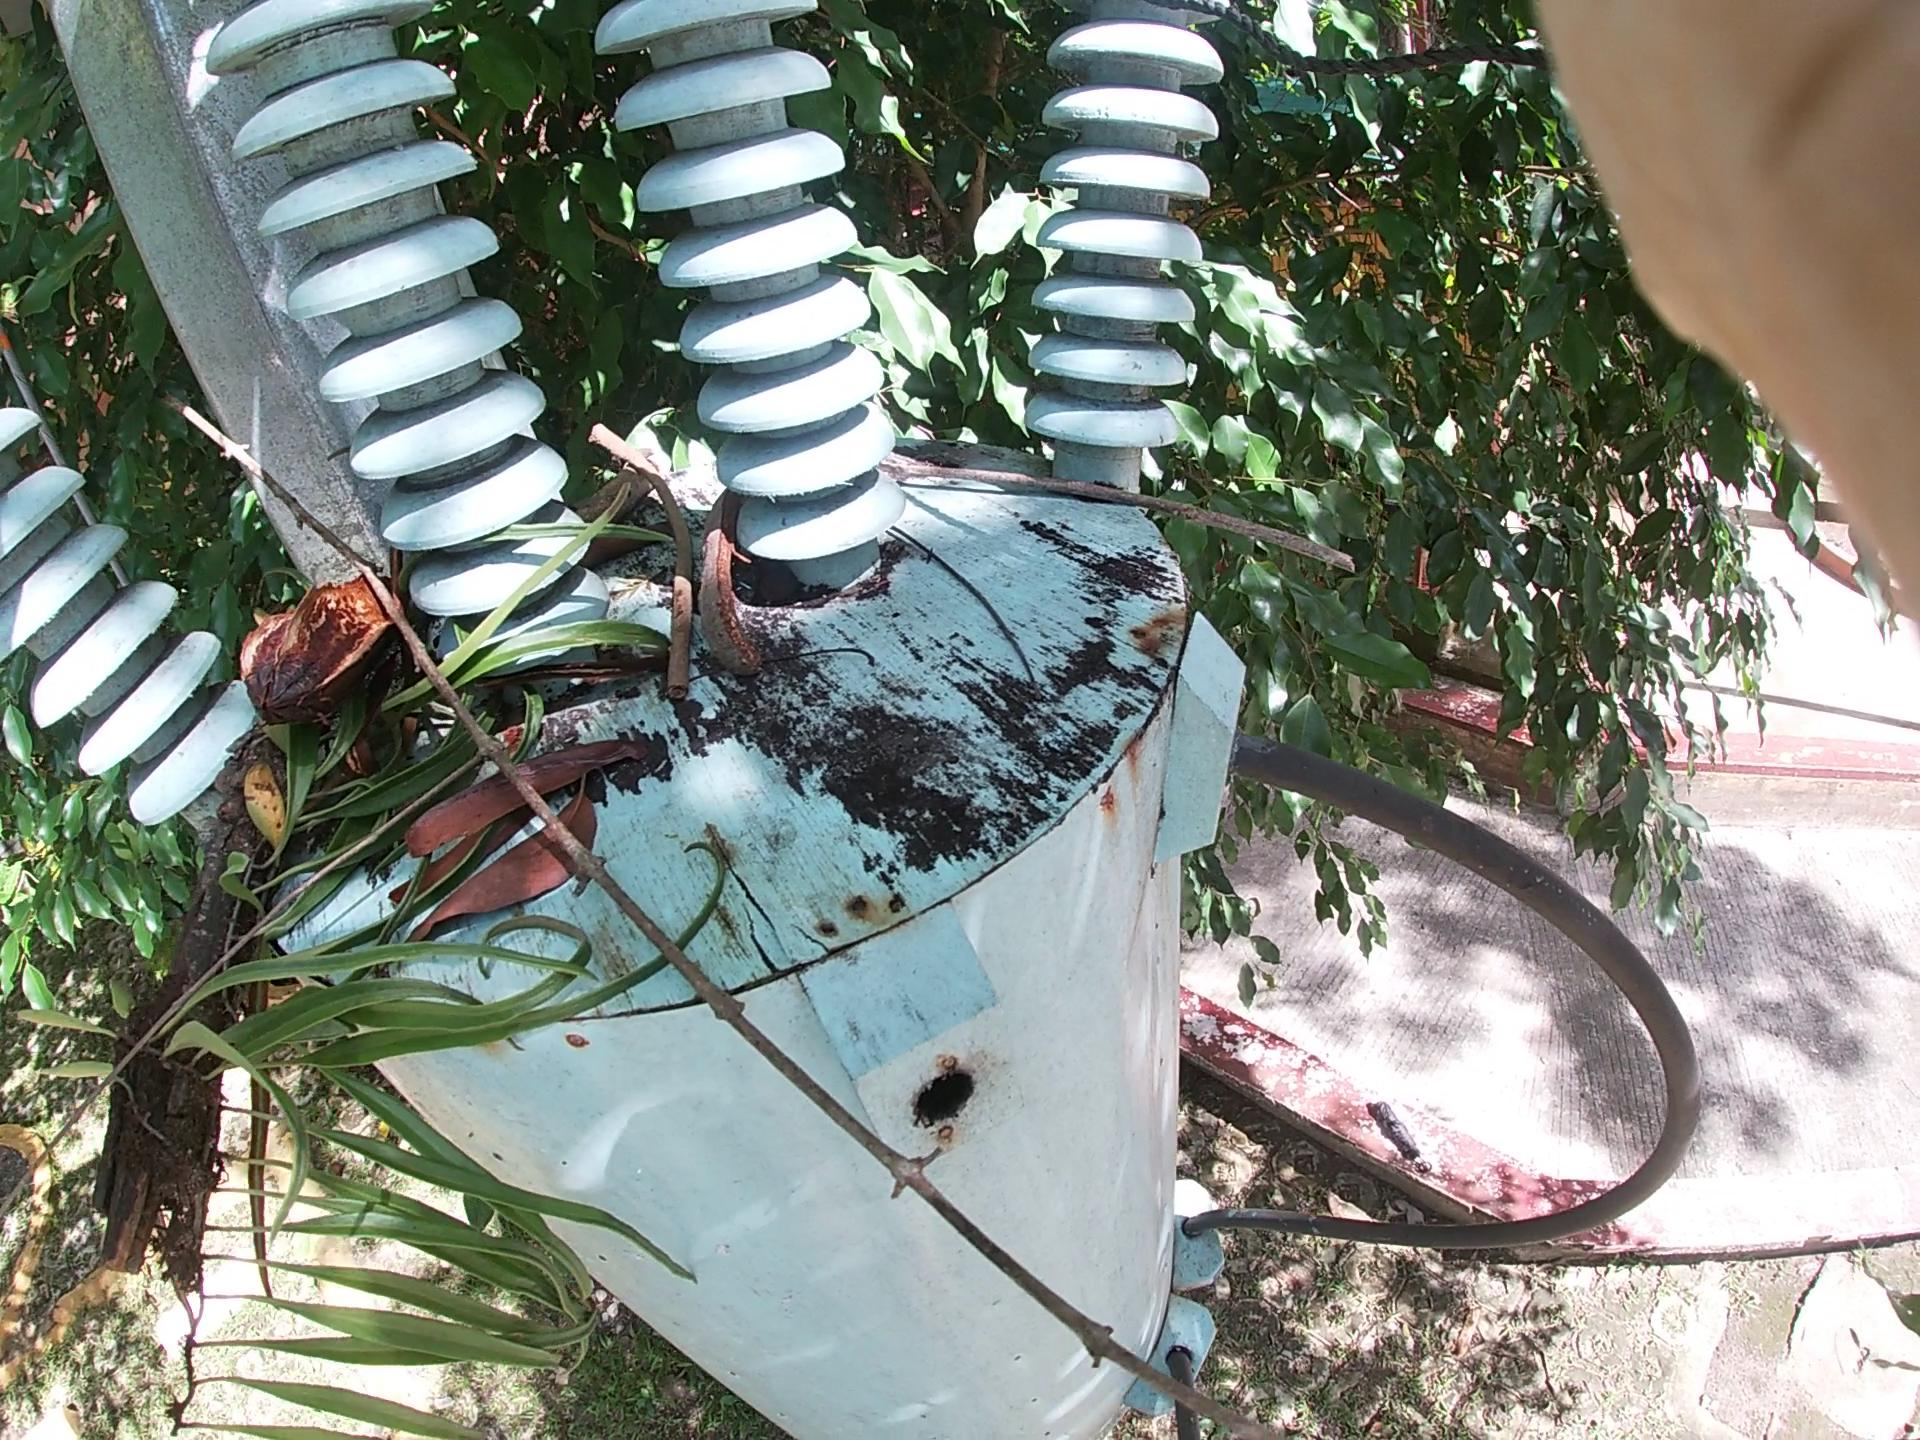branch with leaves: (163, 386, 522, 1172)
leaf: (364, 777, 632, 961), (499, 489, 741, 588)
mahogany fruit: (209, 532, 423, 787), (671, 461, 792, 735)
tree branch: (252, 446, 1184, 1345), (830, 417, 1417, 617), (565, 369, 768, 800)
